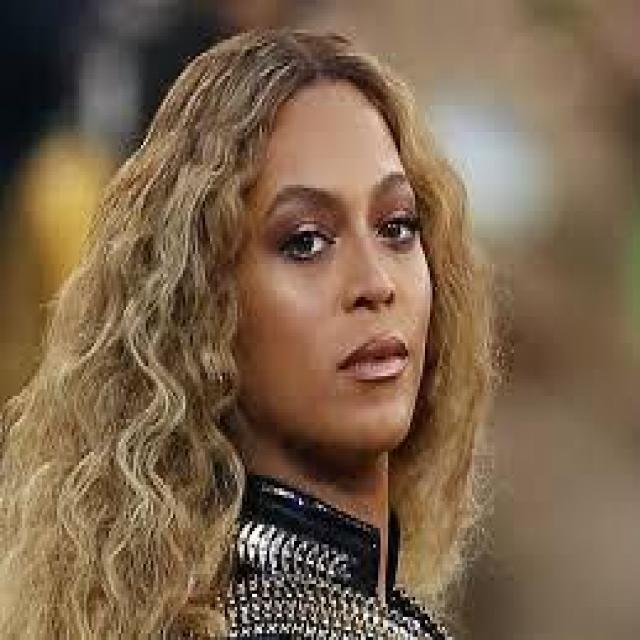person: (54, 26, 529, 637)
